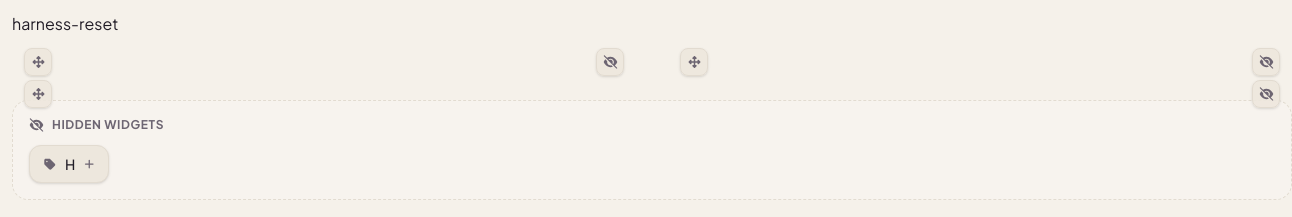
WidgetGrid › the eye button hides a widget into the tray and persists
Click the button named "Hide Title A" at (610, 62), box [596,48,624,76]
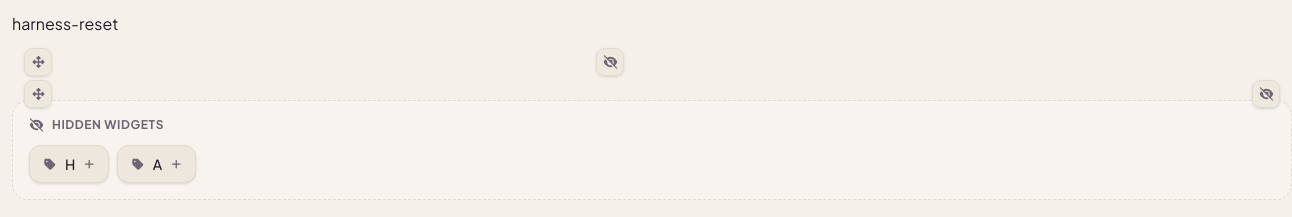
Result: the button named "Show A" is shown at [117,145,196,183]
